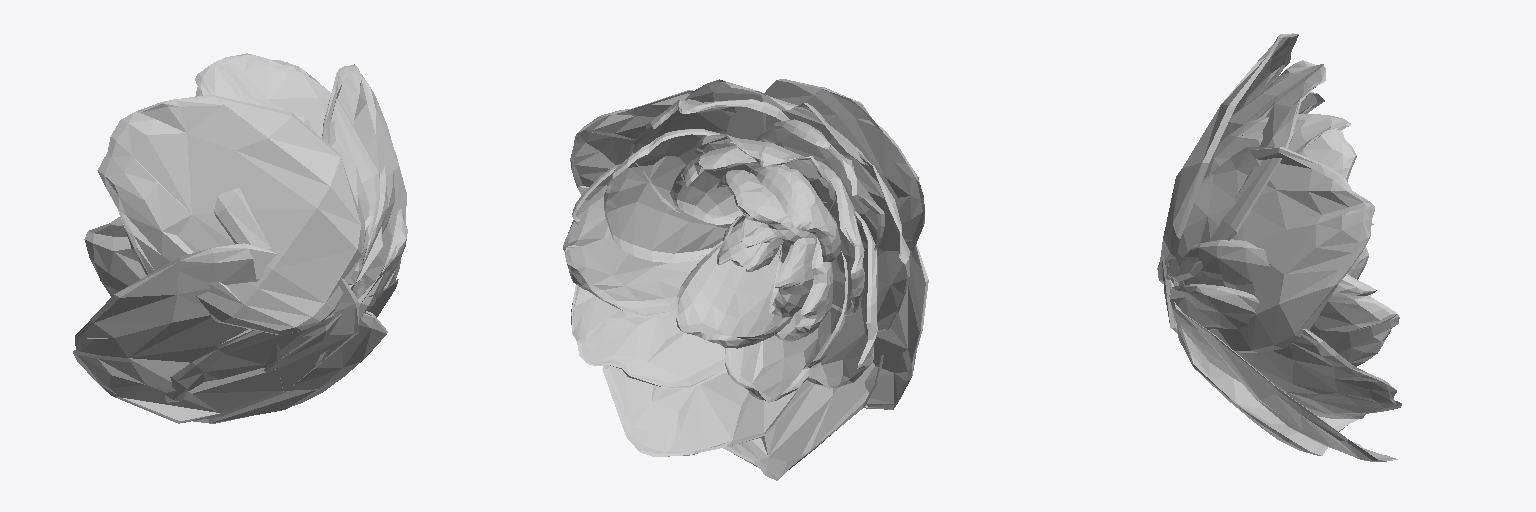
The model's file is natureElixir.obj.
The picture shows the model from 3 angles: view 1: azimuth 30°, elevation 25°; view 2: azimuth 150°, elevation 25°; view 3: azimuth 270°, elevation 25°; orthographic projection.
Visible parts, largest first — view 1: fleur; view 2: fleur; view 3: fleur.
Part boxes in pixels (x1,y1,x2,y2): fleur: (73,53,407,423); fleur: (563,79,928,480); fleur: (1157,33,1401,461).
Size of the model in its own units: 56.59 by 61.11 by 37.01.